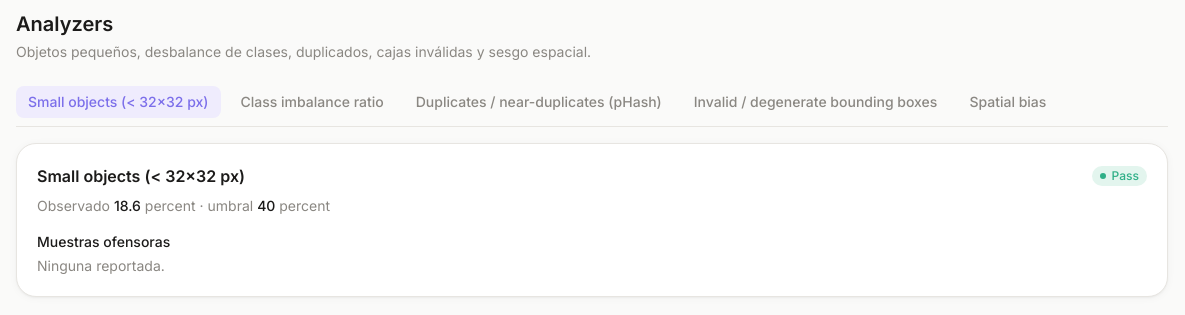
Analyzers (APP-05) › muestra las 5 pestañas requeridas, incluida Spatial Bias, y Spatial Bias no inventa datos
Check: the button "Small objects (< 32x32 px)" is shown, box [16, 86, 220, 118]
Check: the button "Class imbalance ratio" is shown, box [228, 86, 396, 118]
Click the button "Spatial bias": click(1008, 102) [957, 86, 1058, 118]
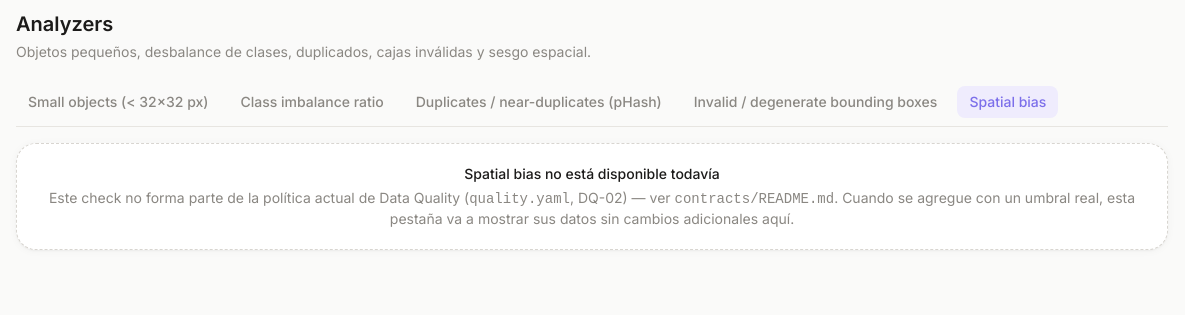
Check: the text "Spatial bias no está disponible todavía" is shown, box [464, 165, 720, 182]
Check: the text "Pass" is gone
